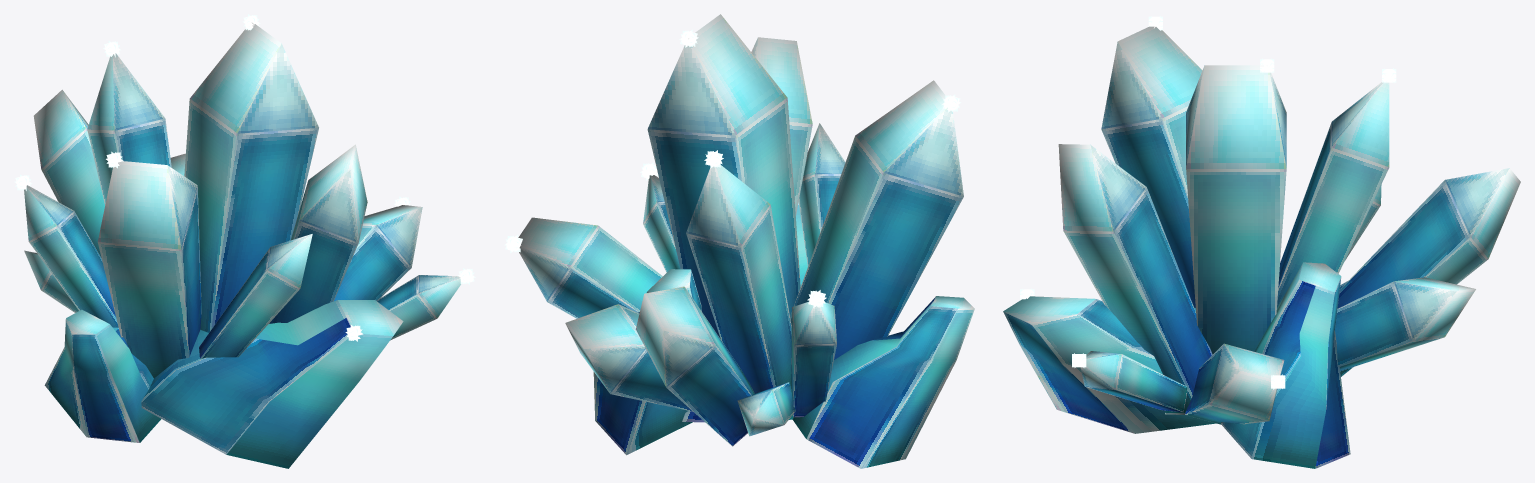
The model's file is a_SWFcrys01.glb.
3 views of the same model, side by side, from view 1: azimuth 30°, elevation 25°; view 2: azimuth 150°, elevation 25°; view 3: azimuth 270°, elevation 25° (orthographic). The views are drawn at different scales.
Visible parts, largest first — view 1: a_SWFcrys01; view 2: a_SWFcrys01; view 3: a_SWFcrys01.
Boxes of the visible parts, x1,y1,x2,y2 form: a_SWFcrys01: [24, 23, 460, 468]; a_SWFcrys01: [518, 14, 974, 468]; a_SWFcrys01: [1003, 26, 1520, 468].
Size of the model in its own units: 2.01 by 1.83 by 2.23.
Materials: 2 (2 with a texture image).
